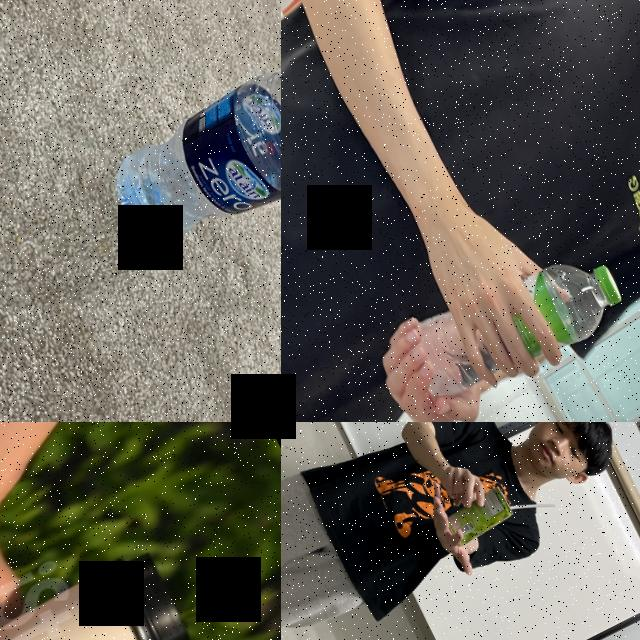bottle: (93, 27, 281, 275), (397, 233, 633, 415)
can: (438, 483, 518, 552)
cup: (0, 538, 204, 640)
